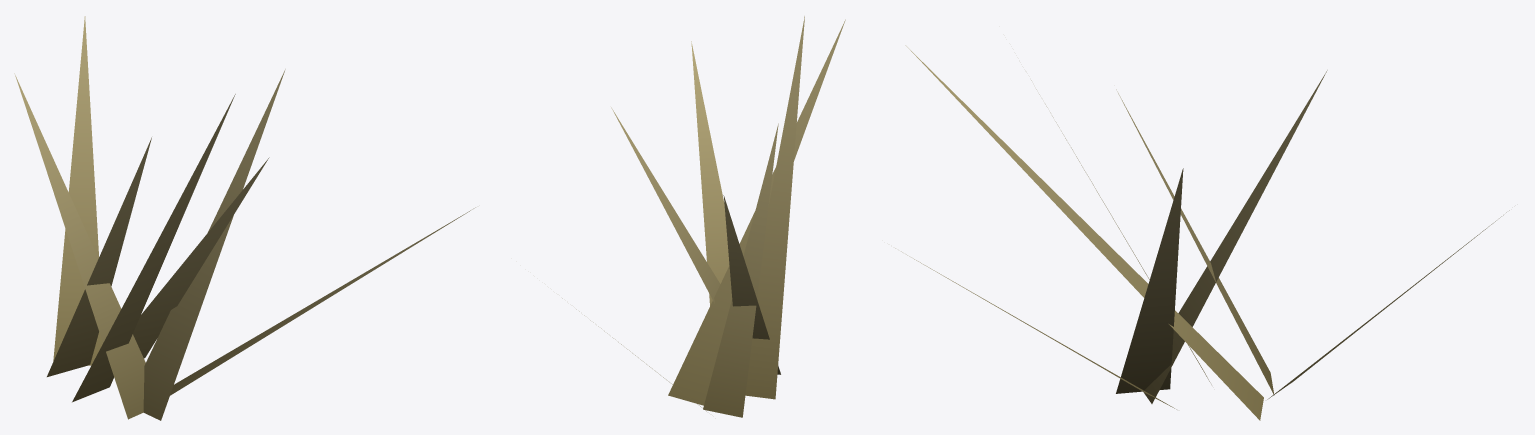
File: env_dry_tuft.glb
The picture shows the model from 3 angles, left to right: view 1: azimuth 30°, elevation 25°; view 2: azimuth 150°, elevation 25°; view 3: azimuth 270°, elevation 25°; orthographic projection. The views are drawn at different scales.
Parts seen in each view (by area): view 1: env_dry_tuft; view 2: env_dry_tuft; view 3: env_dry_tuft.
Part boxes in pixels (x1,y1,x2,y2): env_dry_tuft: (14, 16, 475, 420); env_dry_tuft: (562, 16, 845, 417); env_dry_tuft: (895, 45, 1509, 420).
Size of the model in its own units: 0.3359 by 0.4634 by 0.6975.
